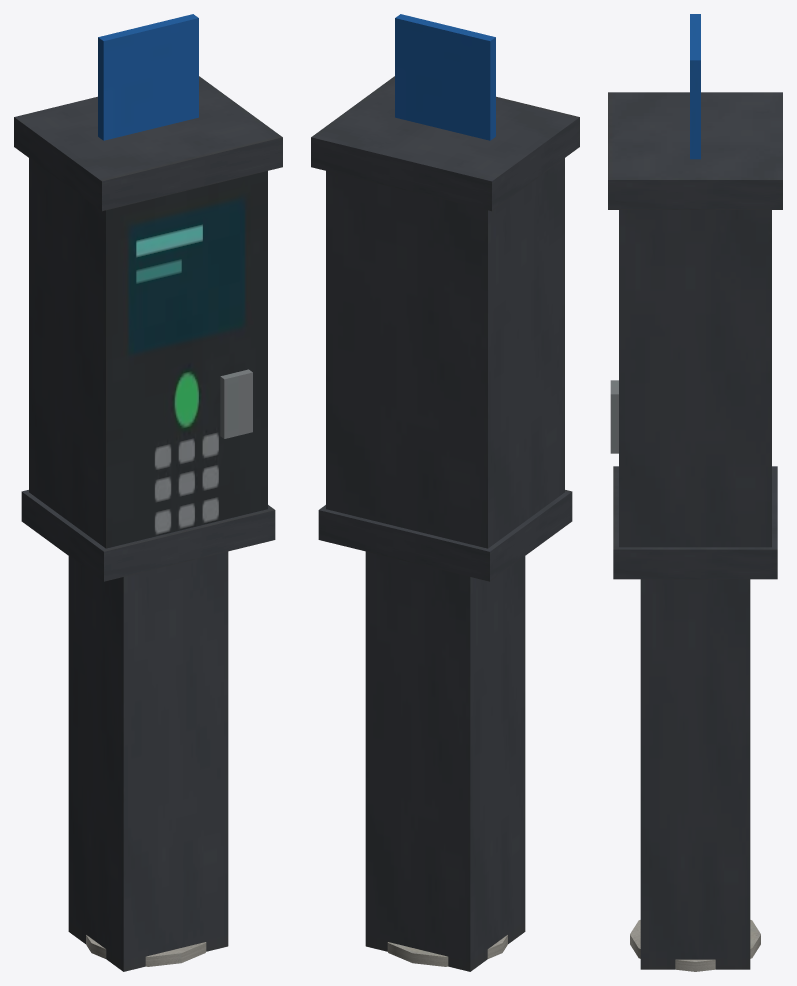
Rendered from horodateur_lod0.glb.
3 views of the same model, side by side, from view 1: azimuth 30°, elevation 25°; view 2: azimuth 150°, elevation 25°; view 3: azimuth 270°, elevation 25° (orthographic).
Visible parts, largest first — view 1: horodateur; view 2: horodateur; view 3: horodateur.
Boxes of the visible parts, x1,y1,x2,y2 form: horodateur: (14, 14, 282, 971); horodateur: (311, 14, 579, 971); horodateur: (608, 14, 782, 971).
Bounding box in the file's own units: 0.38 × 1.83 × 0.3199.
1 material, 1 textured.
